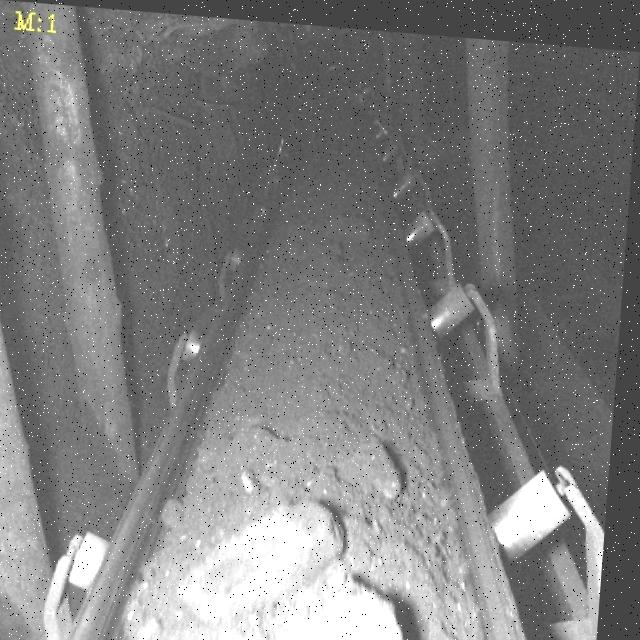large_sized_coal: (178, 484, 354, 623), (286, 570, 422, 640), (347, 425, 415, 493)
